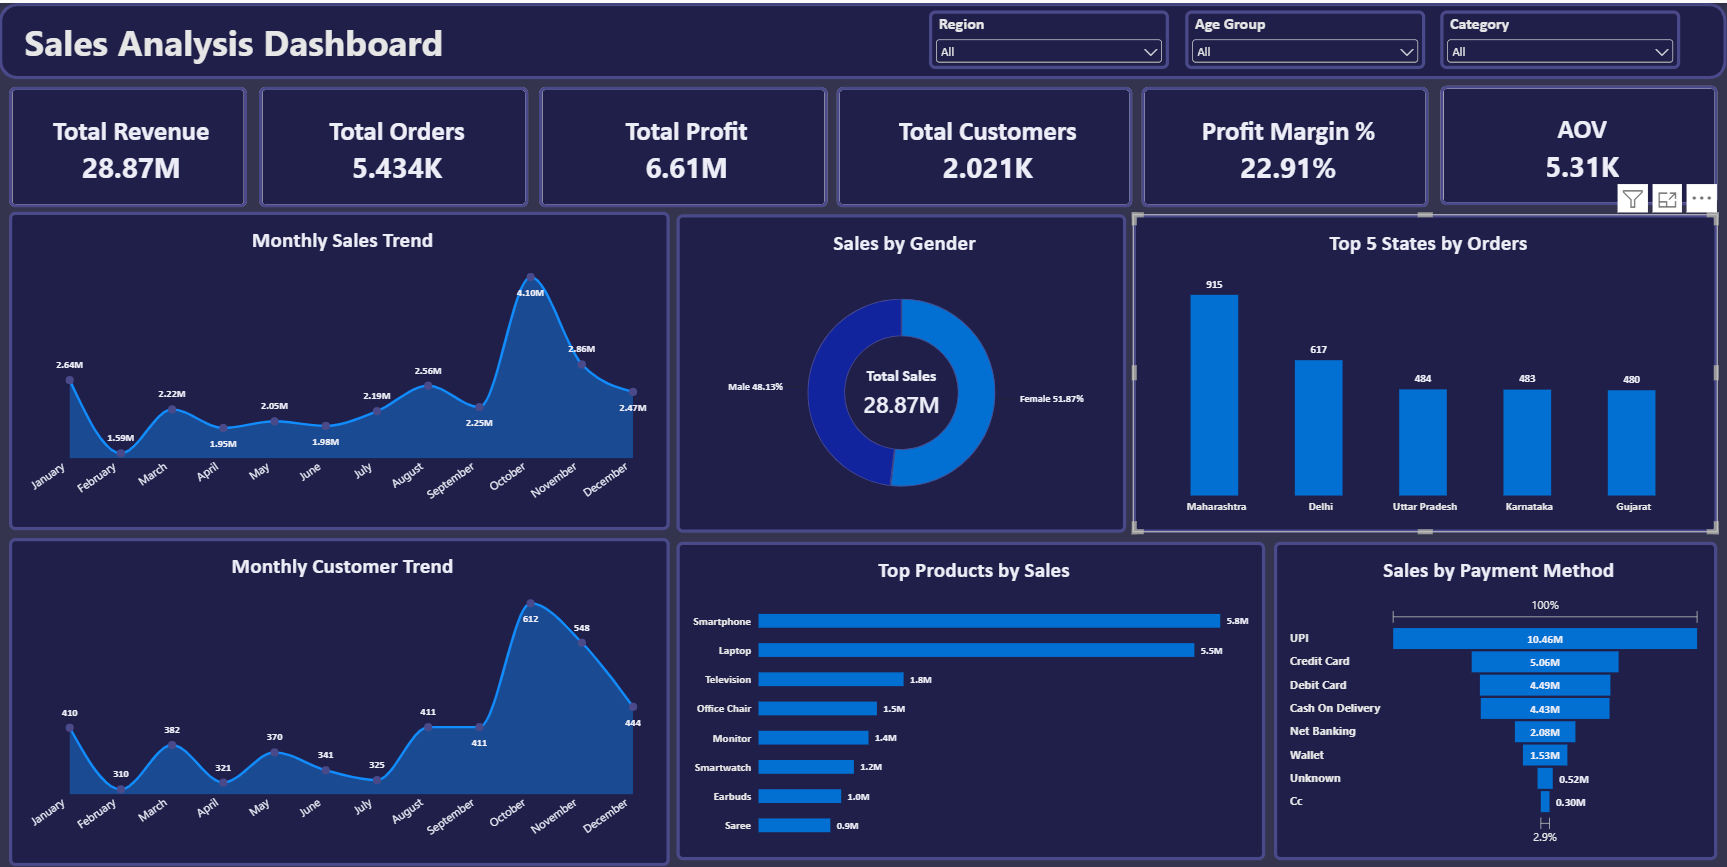

What the dashboard file says about the page in this screenshot:
{"tool":"powerbi","page":{"name":"Page 1","canvas":[2150,1080],"ordinal":0},"visuals":[{"type":"shape","box":[0,0,2149.8,94.8],"z":1},{"type":"cardVisual","fields":{"Data":["indian_retail_sales_raw.Total Revenue"]},"box":[12,104.5,296.5,150],"z":2},{"type":"cardVisual","fields":{"Data":["indian_retail_sales_raw.Total Orders"]},"box":[323.3,104.1,335.8,150.8],"z":3},{"type":"cardVisual","fields":{"Data":["indian_retail_sales_raw.Total Profit"]},"box":[671.5,104.1,359.1,150.8],"z":4},{"type":"cardVisual","fields":{"Data":["indian_retail_sales_raw.Total Customers"]},"box":[1041.5,104.1,368.4,150.8],"z":5},{"type":"cardVisual","fields":{"Data":["indian_retail_sales_raw.Profit Margin %"]},"box":[1420.7,104.1,357.5,150.8],"z":6},{"type":"cardVisual","fields":{"Data":["indian_retail_sales_raw.AOV"]},"box":[1792.2,102.6,345.1,149.2],"z":7},{"type":"areaChart","title":"Monthly Sales Trend","fields":{"Category":["indian_retail_sales_raw.Month Name"],"Y":["Sum(indian_retail_sales_raw.SalesAmount)"]},"box":[12.2,259.9,821.5,395.9],"z":8},{"type":"areaChart","title":"Monthly Customer Trend","fields":{"Category":["indian_retail_sales_raw.Month Name"],"Y":["Count(indian_retail_sales_raw.CustomerID)"]},"box":[12.2,664.5,821.5,408.1],"z":9},{"type":"donutChart","title":"Sales by Gender","fields":{"Category":["indian_retail_sales_raw.Gender"],"Y":["Sum(indian_retail_sales_raw.SalesAmount)"]},"box":[842.2,262.8,559.4,396.1],"z":10},{"type":"clusteredBarChart","title":"Top Products by Sales","fields":{"Category":["indian_retail_sales_raw.ProductName"],"Y":["Sum(indian_retail_sales_raw.SalesAmount)"]},"box":[842.5,670,732.1,396.4],"z":11},{"type":"funnel","title":"Sales by Payment Method","fields":{"Category":["indian_retail_sales_raw.PaymentMethod"],"Y":["Sum(indian_retail_sales_raw.SalesAmount)"]},"box":[1585.5,670,551.2,395.9],"z":12},{"type":"clusteredColumnChart","title":"Top 5 States by Orders","fields":{"Category":["indian_retail_sales_raw.State"],"Y":["CountNonNull(indian_retail_sales_raw.OrderID)"]},"box":[1409.9,262.7,727.5,396.4],"z":13},{"type":"slicer","fields":{"Values":["indian_retail_sales_raw.Age Group"]},"box":[1475.7,10,298.6,72.9],"z":14},{"type":"slicer","fields":{"Values":["indian_retail_sales_raw.Region"]},"box":[1157.1,10,298.6,72.9],"z":15},{"type":"slicer","fields":{"Values":["indian_retail_sales_raw.Category"]},"box":[1792.9,10,298.6,72.9],"z":16}]}

Visuals, with their boxes in screenshot pixels (x1, y1, x2, y2), scaled from the page's 2150x1080 canvas onto the 1727x867 screenshot:
shape: [0, 0, 1726, 76]
cardVisual - indian_retail_sales_raw.Total Revenue: [10, 84, 248, 204]
cardVisual - indian_retail_sales_raw.Total Orders: [260, 84, 529, 205]
cardVisual - indian_retail_sales_raw.Total Profit: [539, 84, 828, 205]
cardVisual - indian_retail_sales_raw.Total Customers: [837, 84, 1133, 205]
cardVisual - indian_retail_sales_raw.Profit Margin %: [1141, 84, 1428, 205]
cardVisual - indian_retail_sales_raw.AOV: [1440, 82, 1717, 202]
"Monthly Sales Trend" areaChart: [10, 209, 670, 526]
"Monthly Customer Trend" areaChart: [10, 533, 670, 861]
"Sales by Gender" donutChart: [677, 211, 1126, 529]
"Top Products by Sales" clusteredBarChart: [677, 538, 1265, 856]
"Sales by Payment Method" funnel: [1274, 538, 1716, 856]
"Top 5 States by Orders" clusteredColumnChart: [1133, 211, 1717, 529]
slicer - indian_retail_sales_raw.Age Group: [1185, 8, 1425, 67]
slicer - indian_retail_sales_raw.Region: [929, 8, 1169, 67]
slicer - indian_retail_sales_raw.Category: [1440, 8, 1680, 67]
